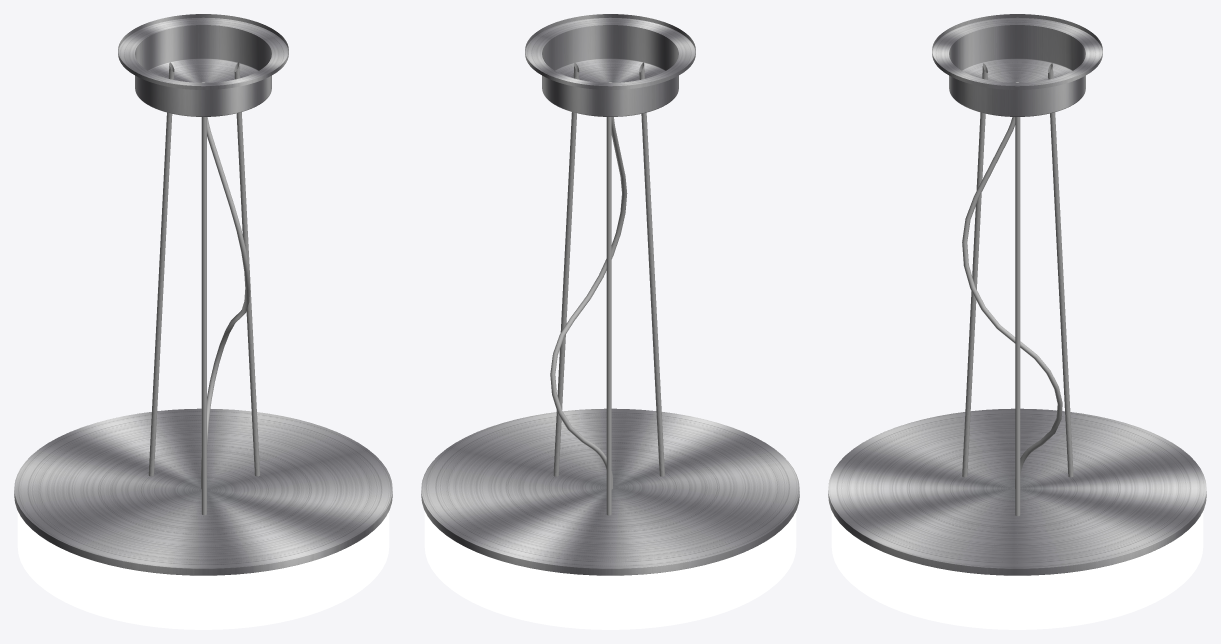
The picture shows the model from 3 angles, left to right: view 1: azimuth 30°, elevation 25°; view 2: azimuth 150°, elevation 25°; view 3: azimuth 270°, elevation 25°; orthographic projection.
Visible parts, largest first — view 1: Metal; view 2: Metal; view 3: Metal.
Part boxes in pixels (left/top/right/bottom): Metal: left=14, top=14, right=392, bottom=629; Metal: left=421, top=14, right=799, bottom=629; Metal: left=828, top=14, right=1206, bottom=629.
Size of the model in its own units: 73.03 by 108 by 73.03.
1 material, 1 textured.
